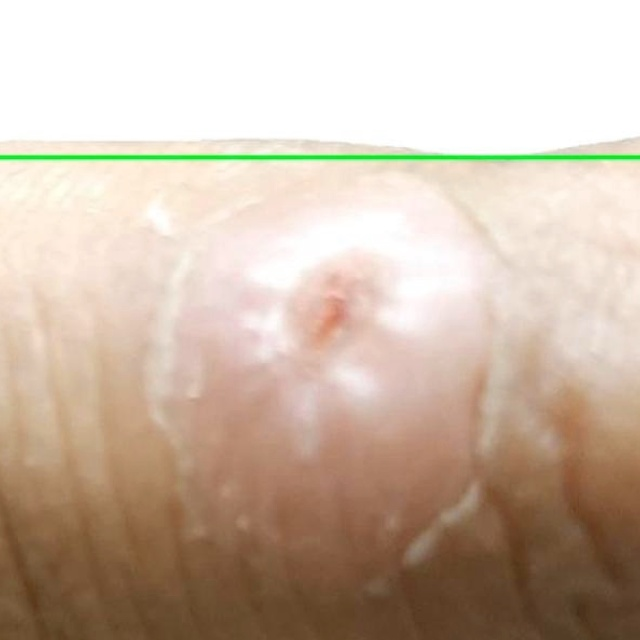Eczema: (0, 0, 639, 157)
